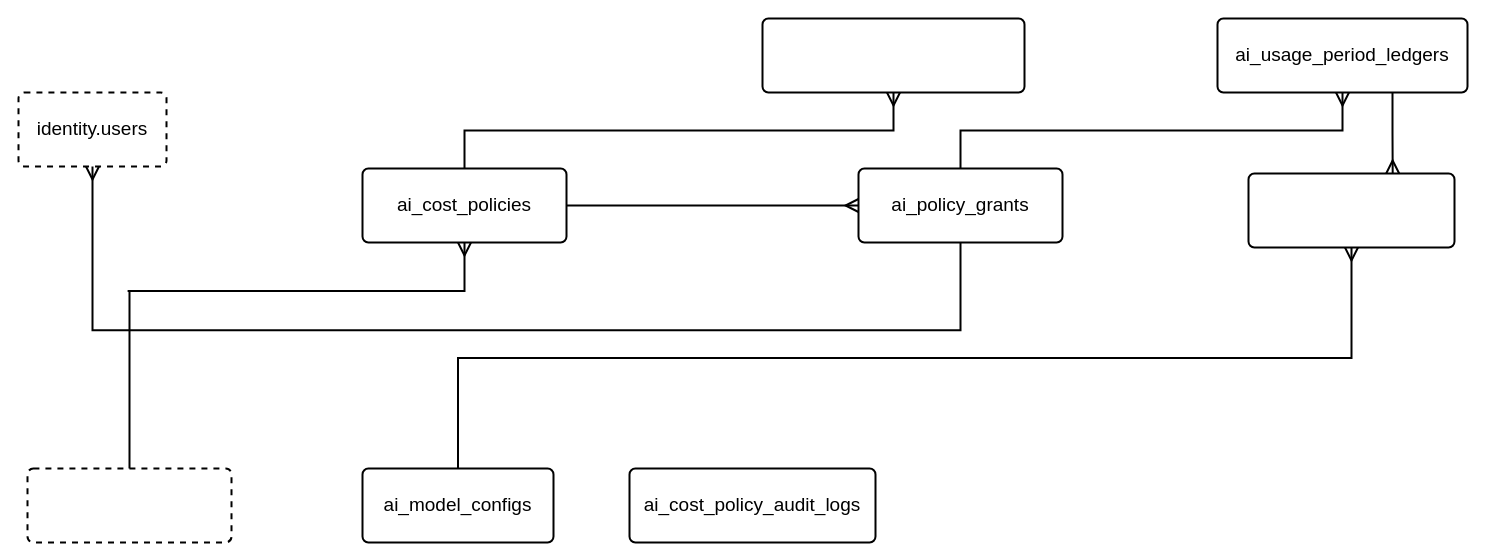
The diagram is 1485 pixels wide and 560 high, and some of its shapes have lost their labels. Here are the shapes that lost their labels. From the top down, the centre of each, then its label:
At point 893,55: "ai_cost_policy_operations".
At point 1351,210: "ai_usage_events".
At point 129,505: "subscription_plans".
